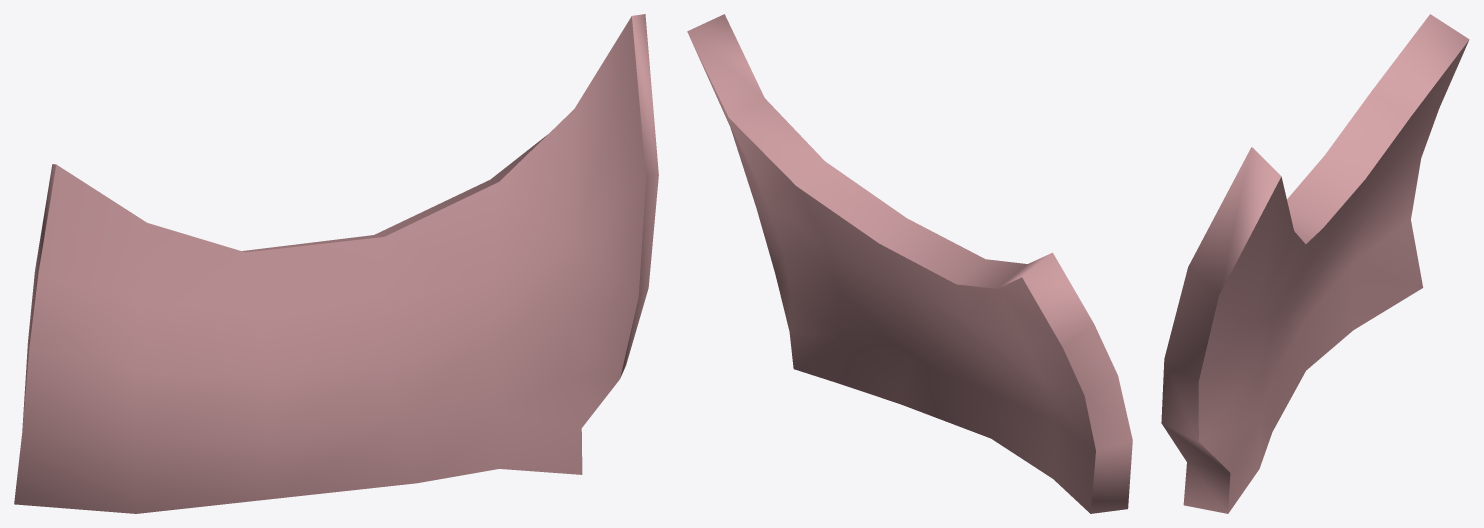
3 renders of one model, left to right at view 1: azimuth 30°, elevation 25°; view 2: azimuth 150°, elevation 25°; view 3: azimuth 270°, elevation 25°, orthographic. The views are drawn at different scales.
Visible parts, largest first — view 1: ZA_e45ceef5a07cd5b6; view 2: ZA_e45ceef5a07cd5b6; view 3: ZA_e45ceef5a07cd5b6.
Part boxes in pixels (x1,y1,x2,y2): ZA_e45ceef5a07cd5b6: (14, 14, 658, 513); ZA_e45ceef5a07cd5b6: (687, 14, 1132, 513); ZA_e45ceef5a07cd5b6: (1161, 14, 1469, 513).
Bounding box in the file's own units: 0.0407 × 0.0279 × 0.0194.
